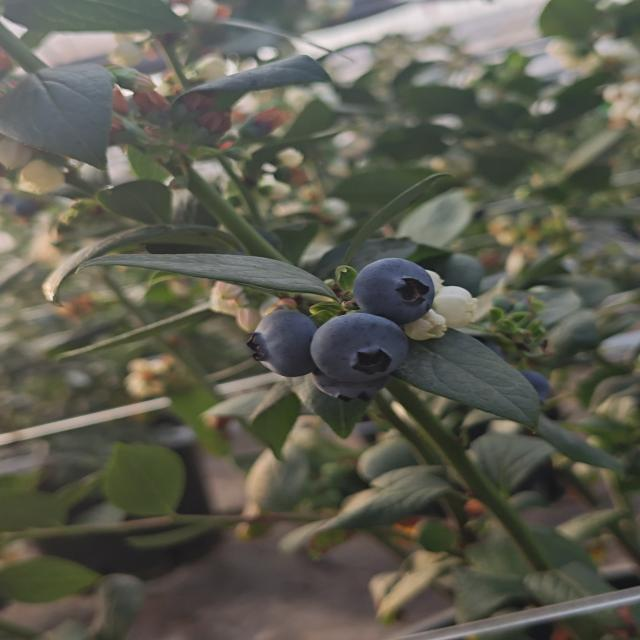ripe: (308, 311, 412, 400), (244, 296, 319, 379), (350, 256, 438, 325), (482, 352, 554, 407)
